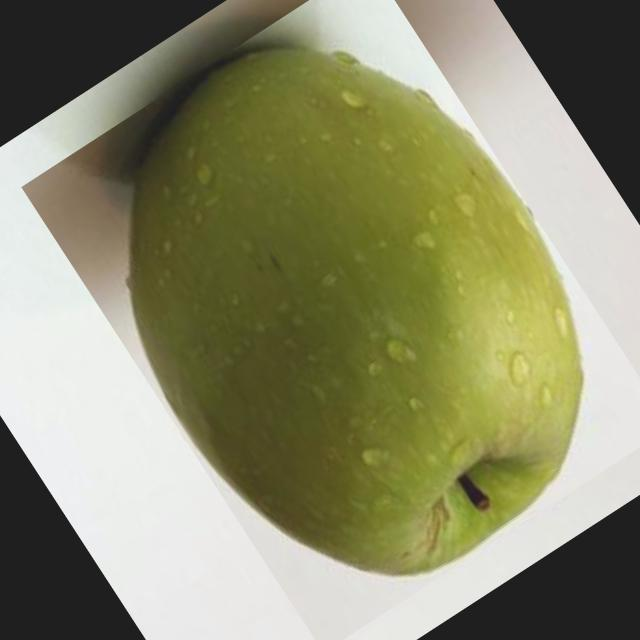Green Apple: (126, 45, 585, 577)
